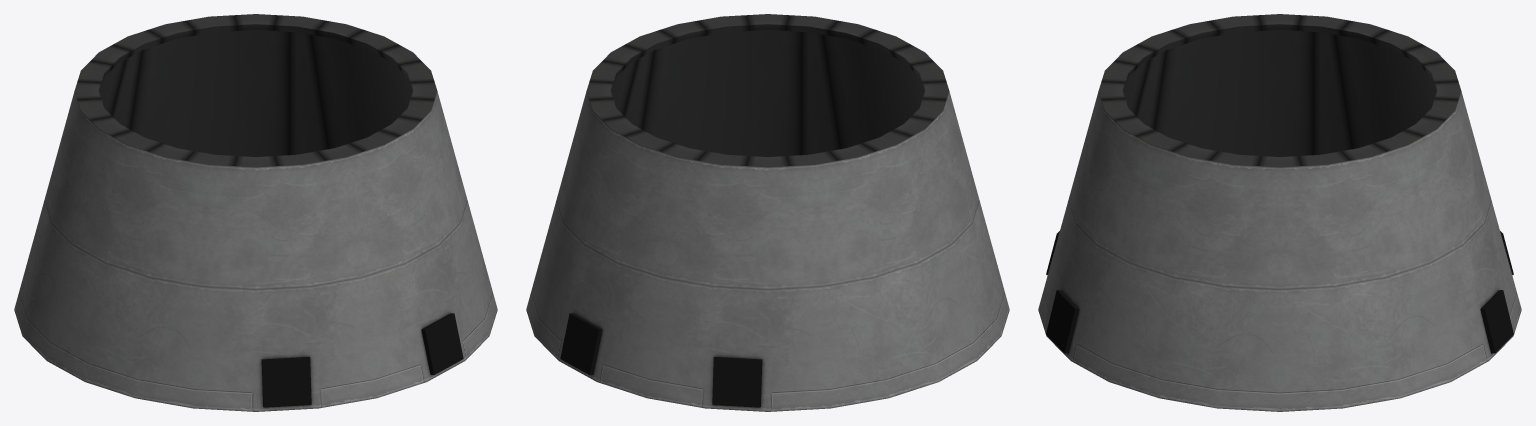
The model's file is rotanev_aeroshell_s2_1.obj.
3 renders of one model, left to right at view 1: azimuth 30°, elevation 25°; view 2: azimuth 150°, elevation 25°; view 3: azimuth 270°, elevation 25°, orthographic.
Parts seen in each view (by area): view 1: 2, 1; view 2: 2, 1; view 3: 2, 1.
Part boxes in pixels (x1,y1,x2,y2): 2: [14, 91, 497, 411]; 1: [74, 14, 463, 407]; 2: [526, 91, 1009, 411]; 1: [560, 14, 949, 407]; 2: [1038, 91, 1521, 411]; 1: [1046, 14, 1513, 353].
Size of the model in its own units: 2.5 by 1.25 by 2.5.
